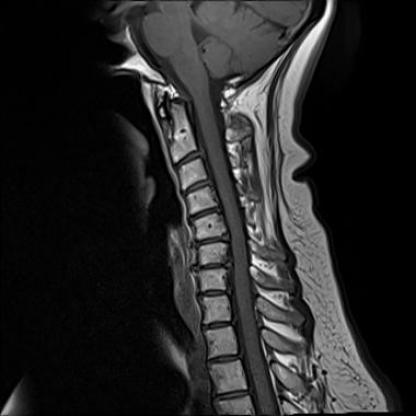Disc Bulgerotation: (191, 259, 236, 273), (191, 233, 233, 248)
